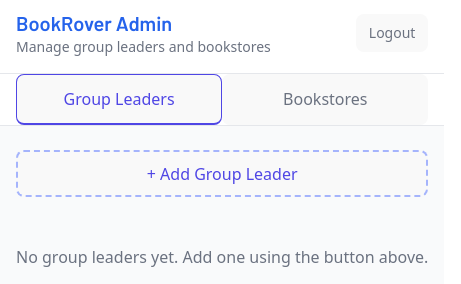
Test: AdminPage › switches back to Group Leaders tab
What coordinates should you click on to do the following:
click the button "Bookstores"
I would click on:
 (325, 100)
Its box is left=222, top=74, right=428, bottom=125.
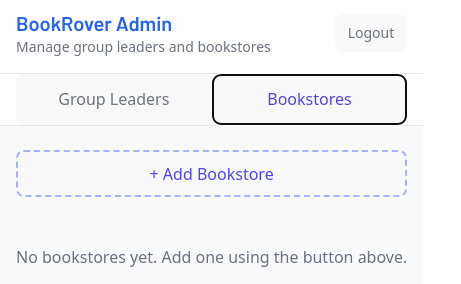
What coordinates should you click on to do the following:
click the button "Group Leaders"
I would click on:
 (114, 100)
Its box is left=16, top=74, right=212, bottom=125.
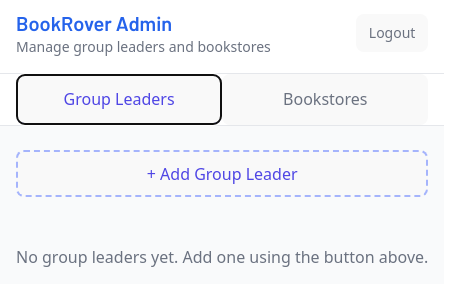
expect the button "+ Add Group Leader" is shown: met, box left=16, top=150, right=428, bottom=197
